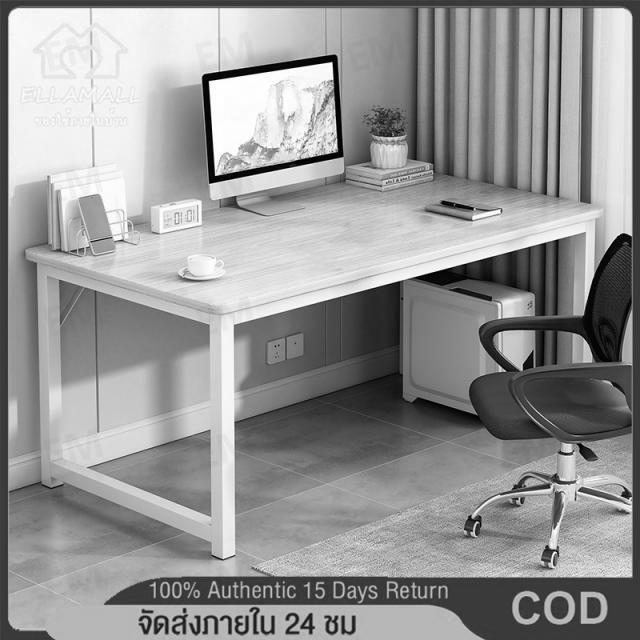table: (29, 150, 606, 330)
